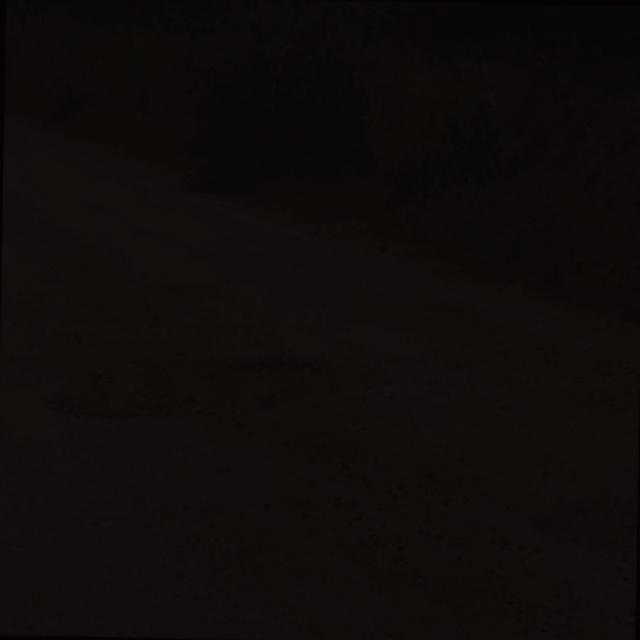Pothole: (49, 329, 337, 425), (535, 492, 640, 580)
